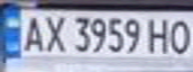3: (69, 14, 90, 53)
5: (106, 15, 127, 53)
9: (121, 16, 145, 53), (87, 15, 109, 53)
A: (18, 12, 48, 53)
H: (145, 15, 172, 54)
O: (166, 17, 193, 55)
X: (39, 12, 69, 53)
